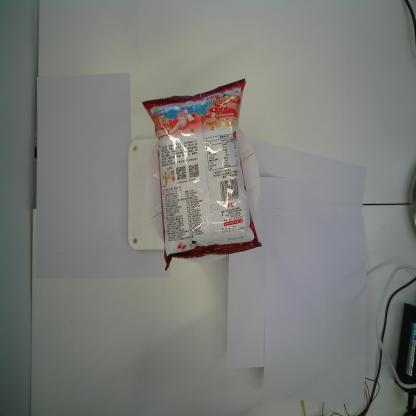Puffed Food: (142, 78, 262, 272)
